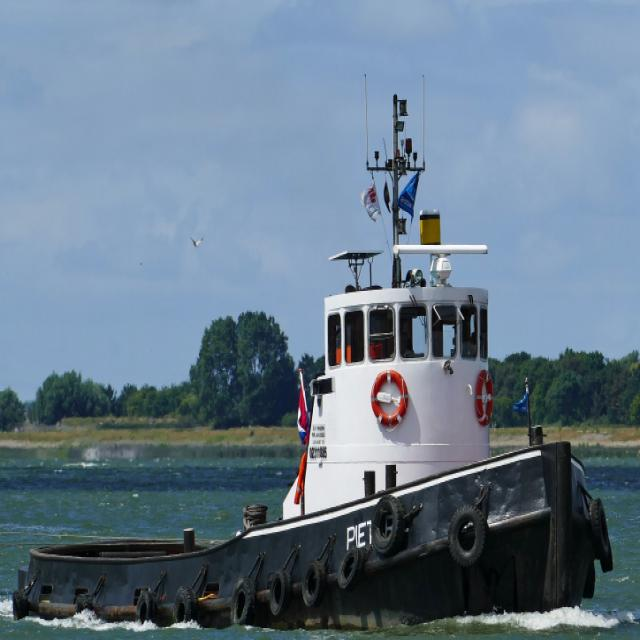tugboat: (4, 89, 620, 640)
